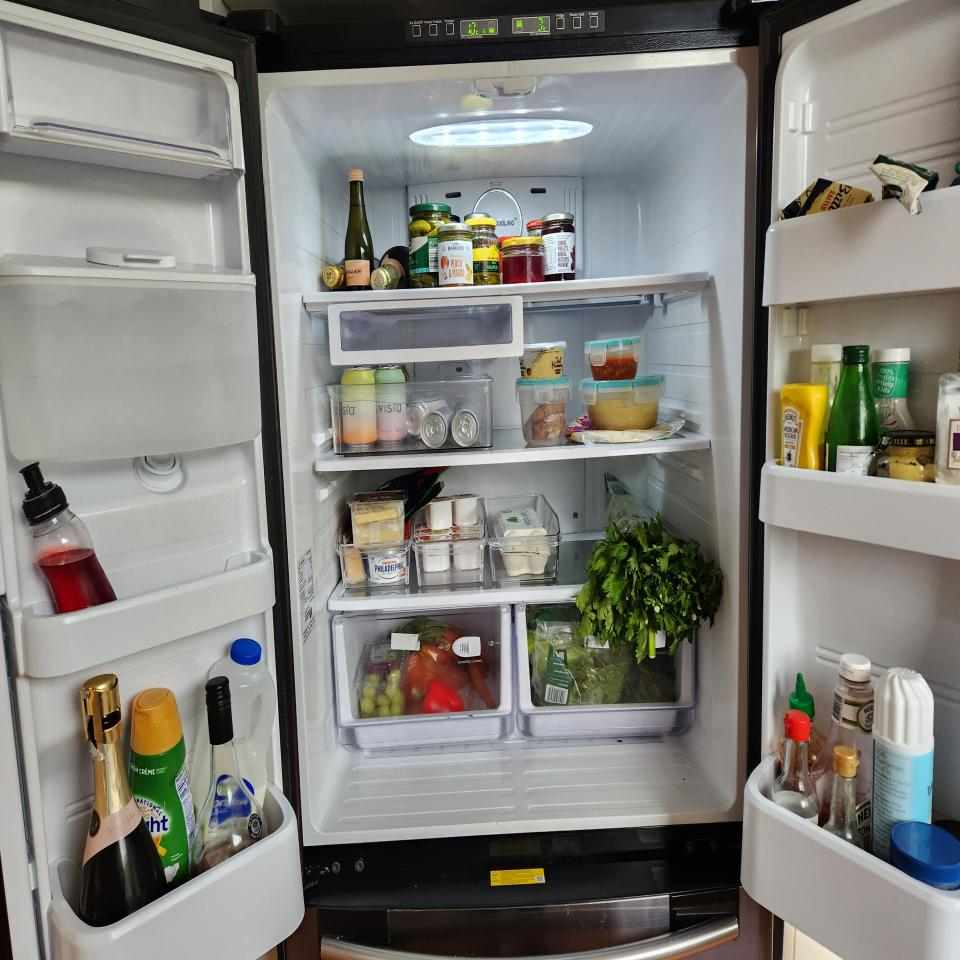Huevos: (493, 510, 551, 576)
Zanahoria: (439, 628, 495, 710)
bell pepper: (412, 681, 466, 721)
mustard: (780, 384, 828, 470)
